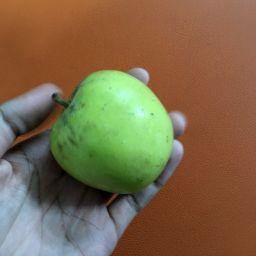apple: (37, 59, 187, 204)
